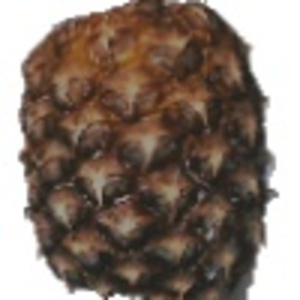abacaxi: (11, 2, 286, 297)
